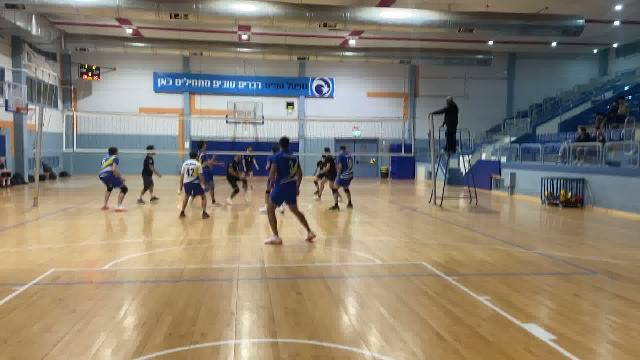ball: (367, 155, 378, 164)
